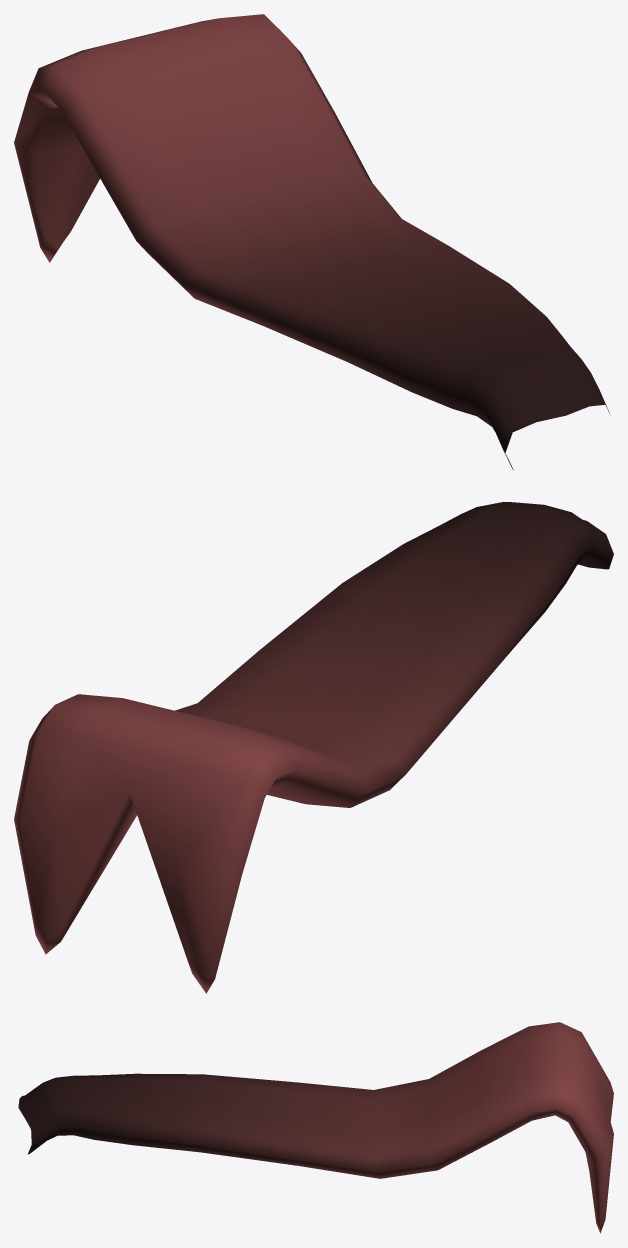
File: forked.glb
3 renders of one model, top to bottom at view 1: azimuth 30°, elevation 25°; view 2: azimuth 150°, elevation 25°; view 3: azimuth 270°, elevation 25°, orthographic. The views are drawn at different scales.
Visible parts, largest first — view 1: cc_forked7; view 2: cc_forked7; view 3: cc_forked7.
Boxes of the visible parts, x1,y1,x2,y2 form: cc_forked7: (14, 14, 610, 470); cc_forked7: (14, 502, 613, 993); cc_forked7: (18, 1022, 613, 1233).
Size of the model in its own units: 0.0542 by 0.0504 by 0.177.
Materials: 1 (1 with a texture image).
